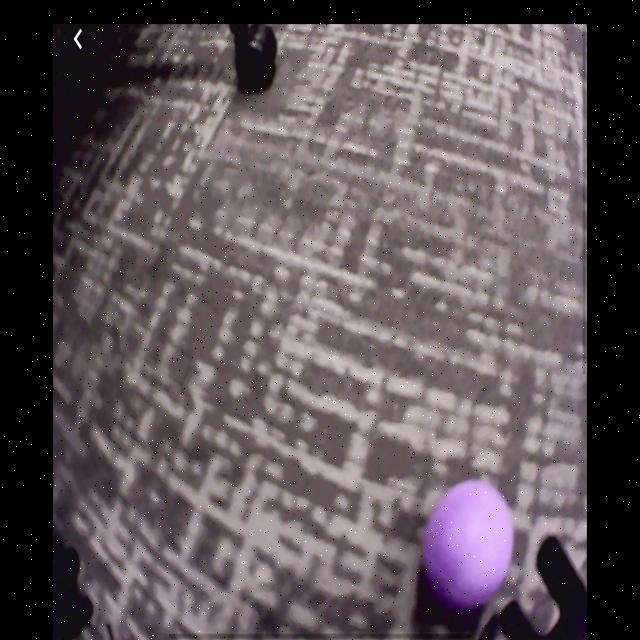ball: (424, 479, 514, 610)
